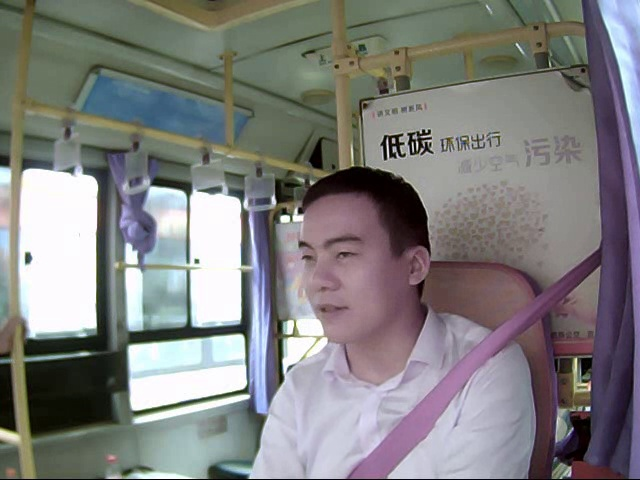closed_mouth: (310, 301, 350, 319)
open_eye: (333, 249, 362, 261), (295, 251, 316, 264)
